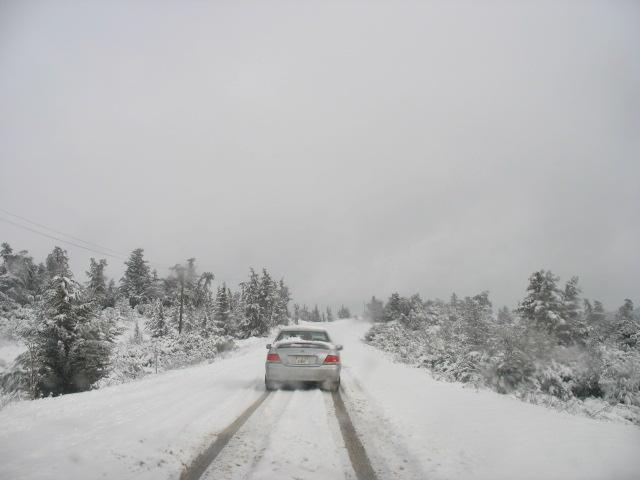car: (265, 327, 344, 395)
